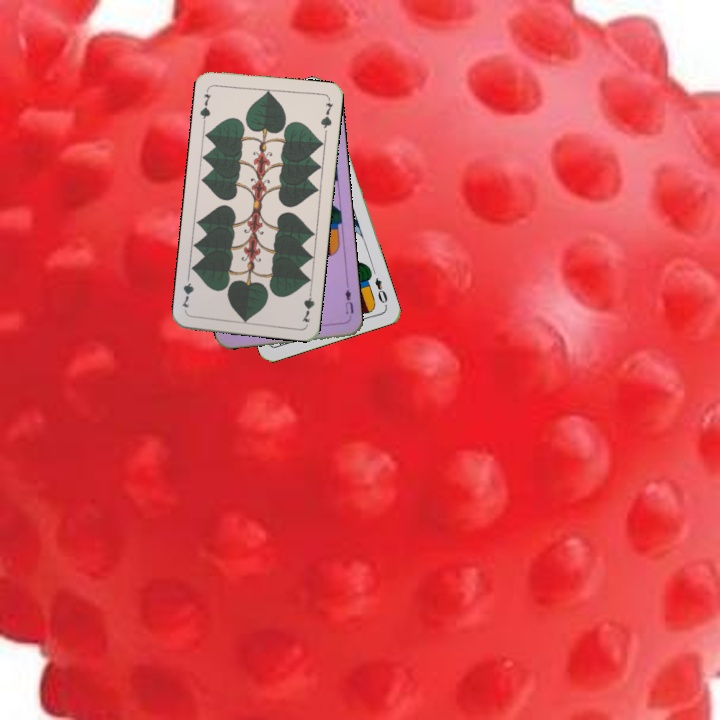EO: (371, 274, 390, 306)
EU: (341, 281, 356, 316)
G7: (298, 285, 317, 325), (196, 85, 214, 125)
